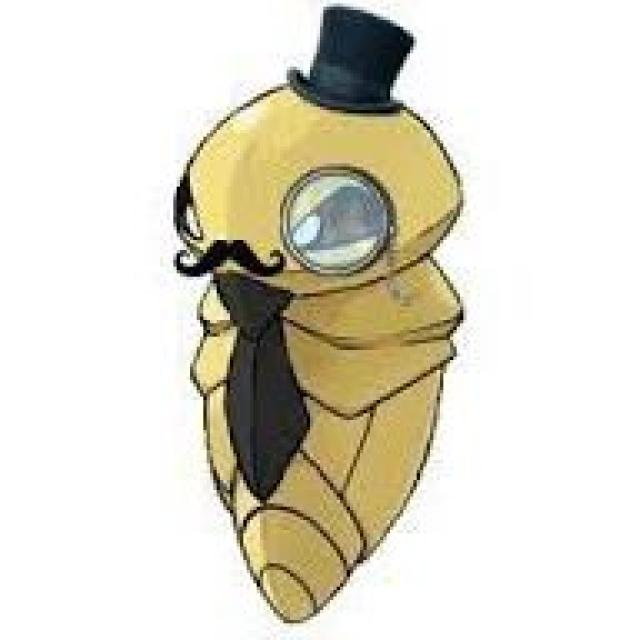Kakuna: (173, 91, 455, 621)
